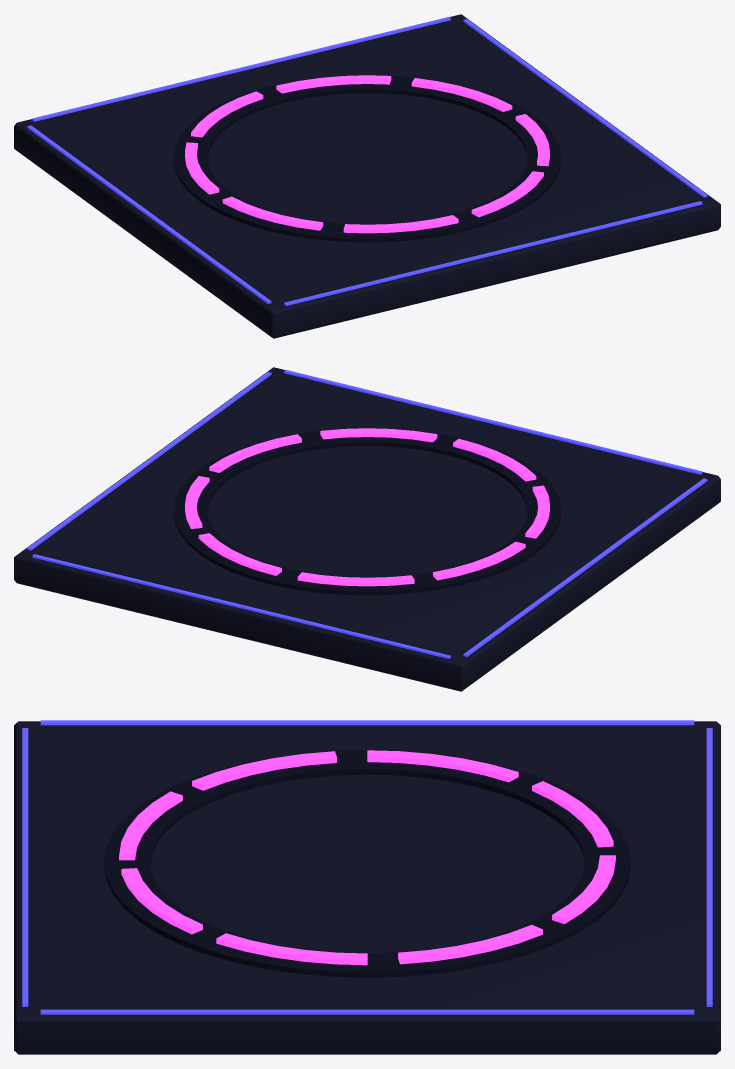
Rendered from NT_Floor_Spawn_Magenta.fbx.
3 renders of one model, top to bottom at view 1: azimuth 30°, elevation 25°; view 2: azimuth 150°, elevation 25°; view 3: azimuth 270°, elevation 25°, orthographic. The views are drawn at different scales.
Visible parts, largest first — view 1: NT_Floor_Spawn_Magenta__FloorMesh; view 2: NT_Floor_Spawn_Magenta__FloorMesh; view 3: NT_Floor_Spawn_Magenta__FloorMesh.
Boxes of the visible parts, <box> form: NT_Floor_Spawn_Magenta__FloorMesh: <box>14,14,720,338</box>; NT_Floor_Spawn_Magenta__FloorMesh: <box>14,367,720,691</box>; NT_Floor_Spawn_Magenta__FloorMesh: <box>14,720,720,1054</box>.
Size of the model in its own units: 2 by 0.162 by 2.
